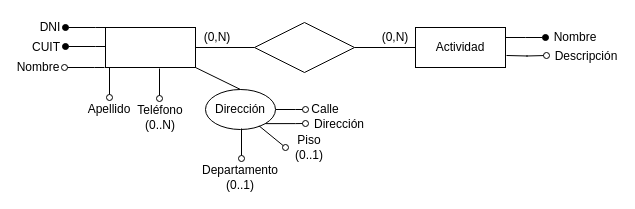
This 635x209 diagram has some shape labels left out. Each missing label, with the centre of its shape:
Persona: point (150, 47)
realiza: point (304, 47)
